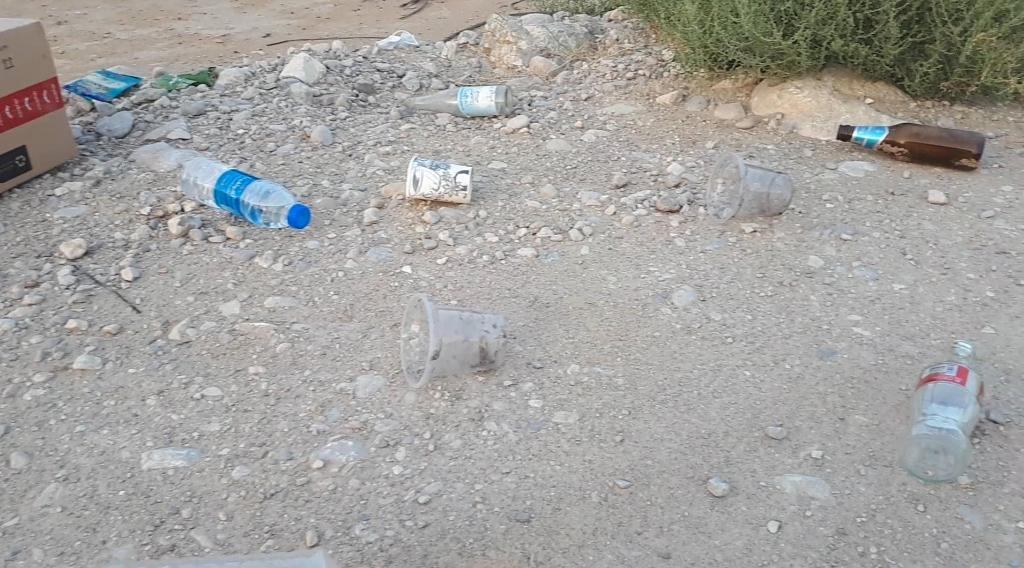garbage: (895, 323, 995, 487), (172, 140, 314, 237), (896, 339, 985, 484), (820, 110, 1003, 177), (183, 157, 310, 229), (394, 74, 556, 126), (837, 123, 985, 170), (401, 147, 490, 209), (407, 85, 513, 117)
